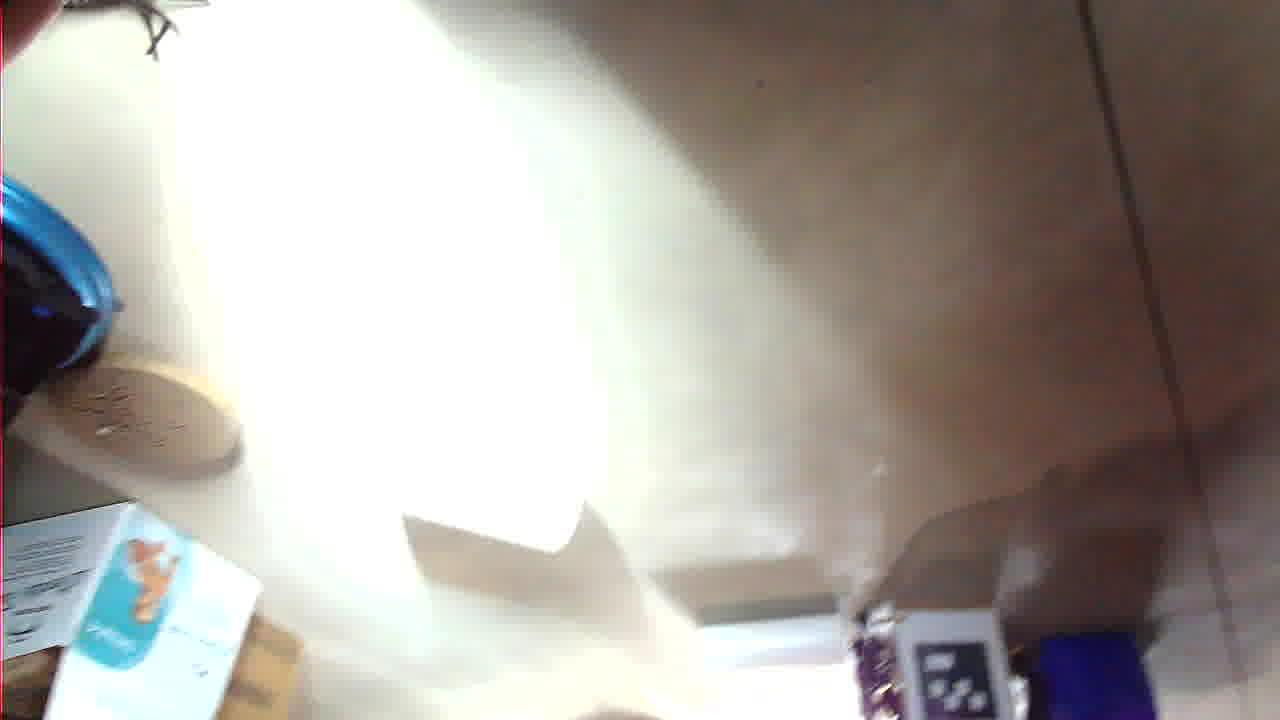coral: (433, 51, 593, 104)
